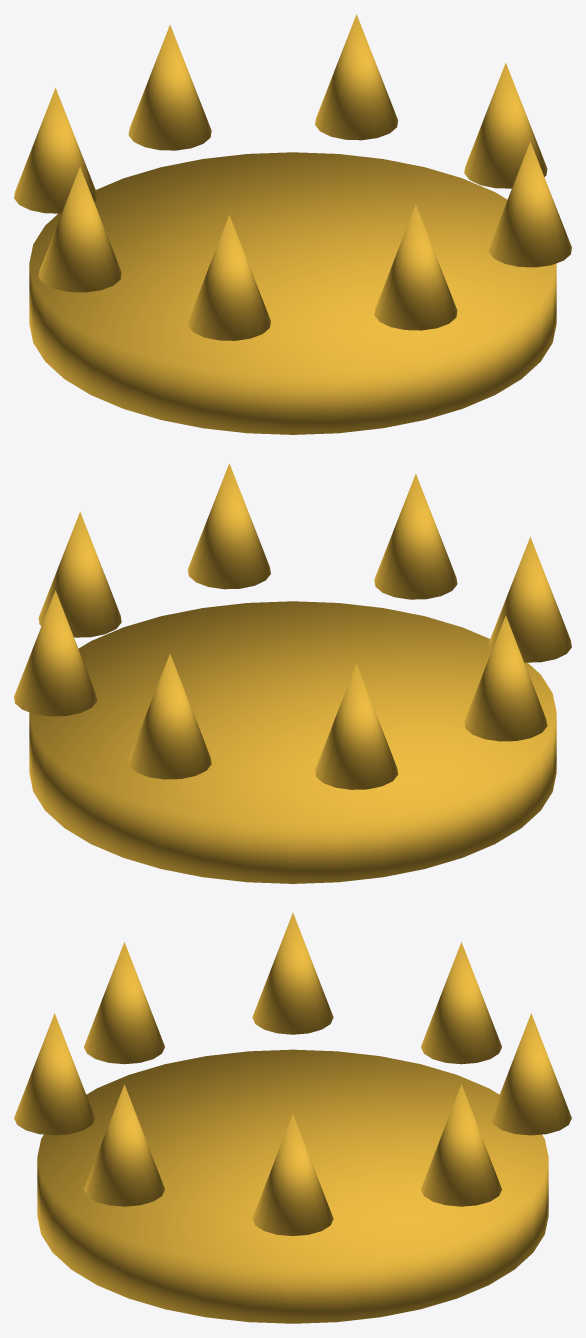
File: royal_crown.obj
3 views of the same model, one above another, from view 1: azimuth 30°, elevation 25°; view 2: azimuth 150°, elevation 25°; view 3: azimuth 270°, elevation 25° (orthographic). The views are drawn at different scales.
Visible parts, largest first — view 1: gold_crown; view 2: gold_crown; view 3: gold_crown.
Boxes of the visible parts, left/top/right/bottom form: gold_crown: left=14, top=14, right=571, bottom=434; gold_crown: left=14, top=463, right=571, bottom=883; gold_crown: left=14, top=913, right=571, bottom=1323.
Bounding box in the file's own units: 0.192 × 0.077 × 0.192.
